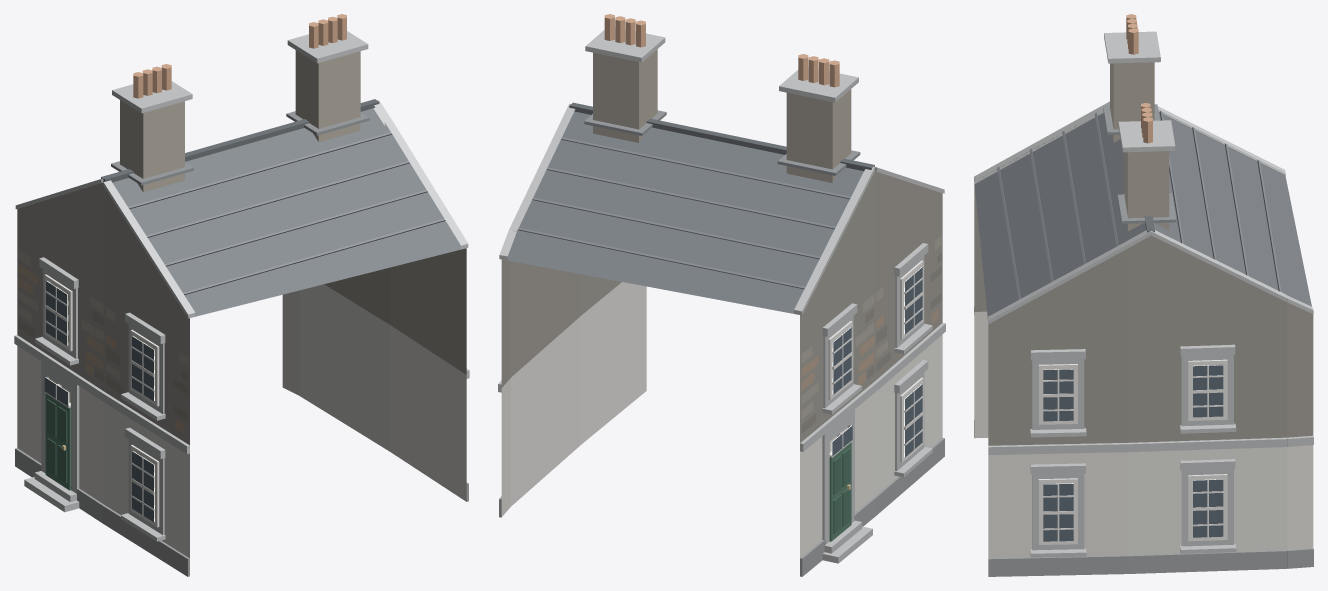
3 renders of one model, left to right at view 1: azimuth 30°, elevation 25°; view 2: azimuth 150°, elevation 25°; view 3: azimuth 270°, elevation 25°, orthographic. The views are drawn at different scales.
Visible parts, largest first — view 1: slate, harl, rubble, stone_band, chim_stone, slate_lt, frame, plinth, pot, slate_dk, door_green_p, window_glass_005 (+7 smaller); view 2: slate, harl, rubble, stone_band, chim_stone, slate_lt, frame, plinth, pot, slate_dk, door_green_p, lead (+7 smaller); view 3: rubble, slate, harl, stone_band, plinth, chim_stone, frame, slate_lt, window_glass_003, window_glass_001, window_glass_002, window_glass_004 (+2 smaller).
Boxes of the visible parts, x1=… form: slate: x1=112, y1=108, x2=460, y2=317; harl: x1=17, y1=284, x2=466, y2=558; rubble: x1=17, y1=182, x2=466, y2=445; stone_band: x1=14, y1=31, x2=469, y2=541; chim_stone: x1=120, y1=50, x2=360, y2=192; slate_lt: x1=128, y1=132, x2=445, y2=294; frame: x1=44, y1=274, x2=159, y2=527; plinth: x1=15, y1=448, x2=468, y2=576; pot: x1=133, y1=14, x2=346, y2=98; slate_dk: x1=101, y1=99, x2=379, y2=182; door_green_p: x1=47, y1=399, x2=67, y2=483; window_glass_005: x1=132, y1=451, x2=154, y2=521; slate: x1=504, y1=111, x2=863, y2=314; harl: x1=501, y1=282, x2=942, y2=557; rubble: x1=501, y1=171, x2=942, y2=442; stone_band: x1=498, y1=27, x2=945, y2=563; chim_stone: x1=593, y1=49, x2=851, y2=182; slate_lt: x1=518, y1=137, x2=850, y2=289; frame: x1=828, y1=260, x2=923, y2=462; plinth: x1=499, y1=438, x2=944, y2=576; pot: x1=604, y1=14, x2=839, y2=87; slate_dk: x1=569, y1=102, x2=874, y2=171; door_green_p: x1=833, y1=448, x2=850, y2=533; lead: x1=584, y1=110, x2=860, y2=175; rubble: x1=974, y1=184, x2=1313, y2=445; slate: x1=974, y1=111, x2=1311, y2=318; harl: x1=974, y1=311, x2=1313, y2=557; stone_band: x1=974, y1=31, x2=1313, y2=557; plinth: x1=974, y1=419, x2=1313, y2=576; chim_stone: x1=1110, y1=62, x2=1169, y2=231; frame: x1=1038, y1=359, x2=1227, y2=544; slate_lt: x1=997, y1=111, x2=1281, y2=299; window_glass_003: x1=1043, y1=483, x2=1073, y2=541; window_glass_001: x1=1193, y1=479, x2=1223, y2=537; window_glass_002: x1=1193, y1=365, x2=1223, y2=417; window_glass_004: x1=1043, y1=369, x2=1073, y2=421.
Size of the model in its own units: 8.52 by 11.03 by 7.81.
